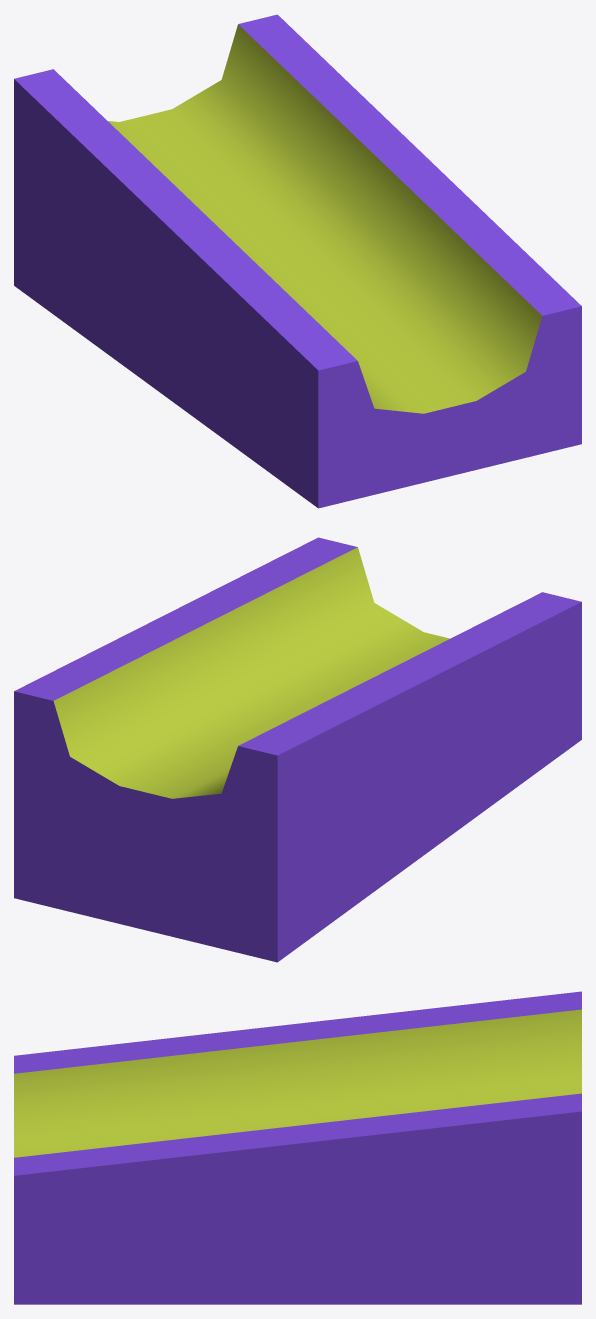
File: slant_solid_long_A-col.dae
3 views of the same model, one above another, from view 1: azimuth 30°, elevation 25°; view 2: azimuth 150°, elevation 25°; view 3: azimuth 270°, elevation 25° (orthographic). The views are drawn at different scales.
Visible parts, largest first — view 1: slant_solid_long_A-col; view 2: slant_solid_long_A-col; view 3: slant_solid_long_A-col.
Boxes of the visible parts, bbox=[...] form: slant_solid_long_A-col: bbox=[14, 14, 581, 508]; slant_solid_long_A-col: bbox=[14, 537, 581, 962]; slant_solid_long_A-col: bbox=[14, 991, 581, 1304].
Size of the model in its own units: 1 by 2 by 0.75.
